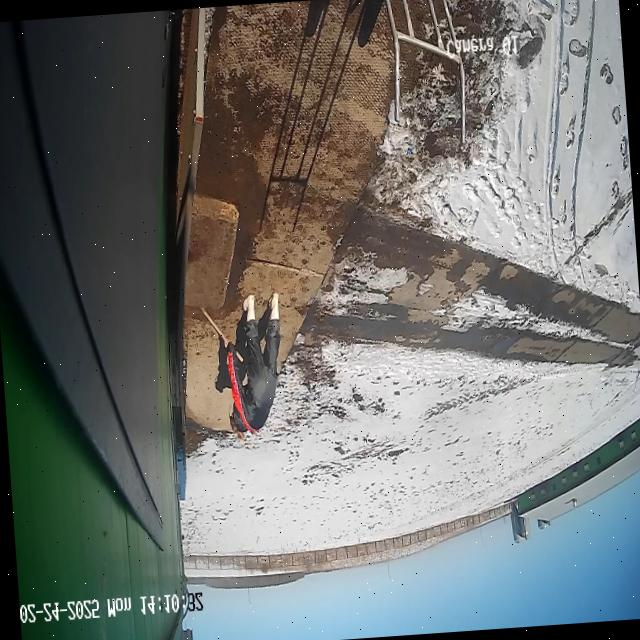Red uniform: (211, 287, 290, 438)
